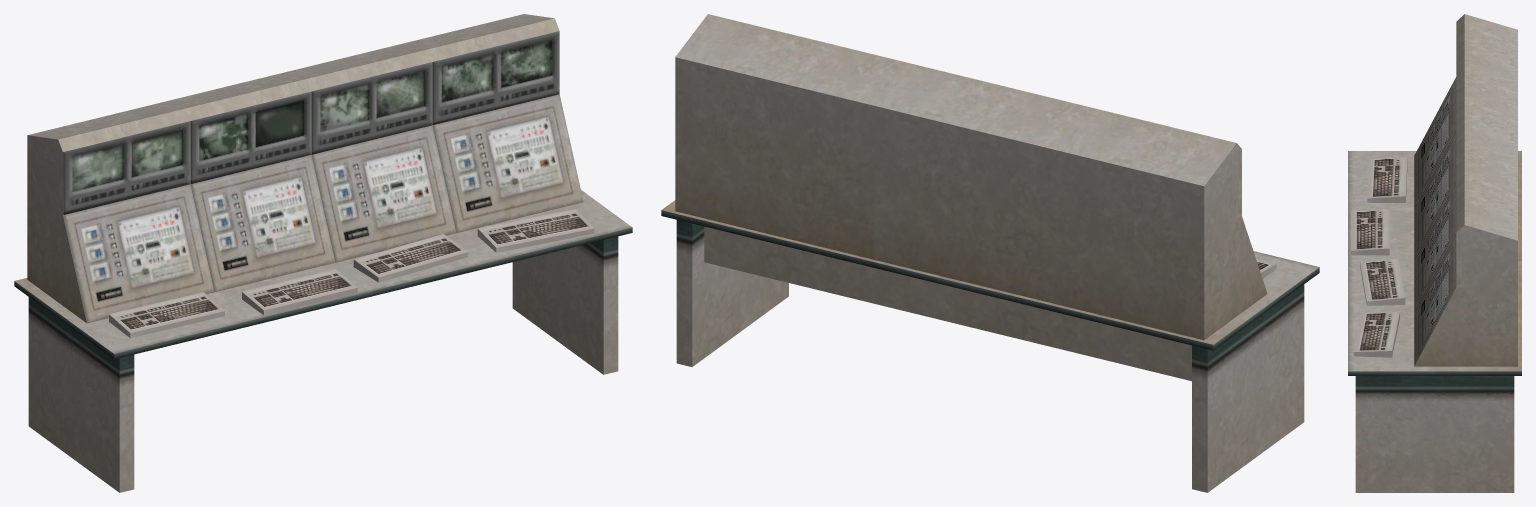
File: securityinterface.fbx
The picture shows the model from 3 angles, left to right: view 1: azimuth 30°, elevation 25°; view 2: azimuth 150°, elevation 25°; view 3: azimuth 270°, elevation 25°; orthographic projection. The views are drawn at different scales.
Visible parts, largest first — view 1: mesh_0; view 2: mesh_0; view 3: mesh_0.
Part boxes in pixels (x1,y1,x2,y2): mesh_0: [14, 14, 632, 492]; mesh_0: [661, 14, 1319, 492]; mesh_0: [1348, 14, 1521, 492].
Size of the model in its own units: 300 by 170 by 100.
Materials: 1 (1 with a texture image).
